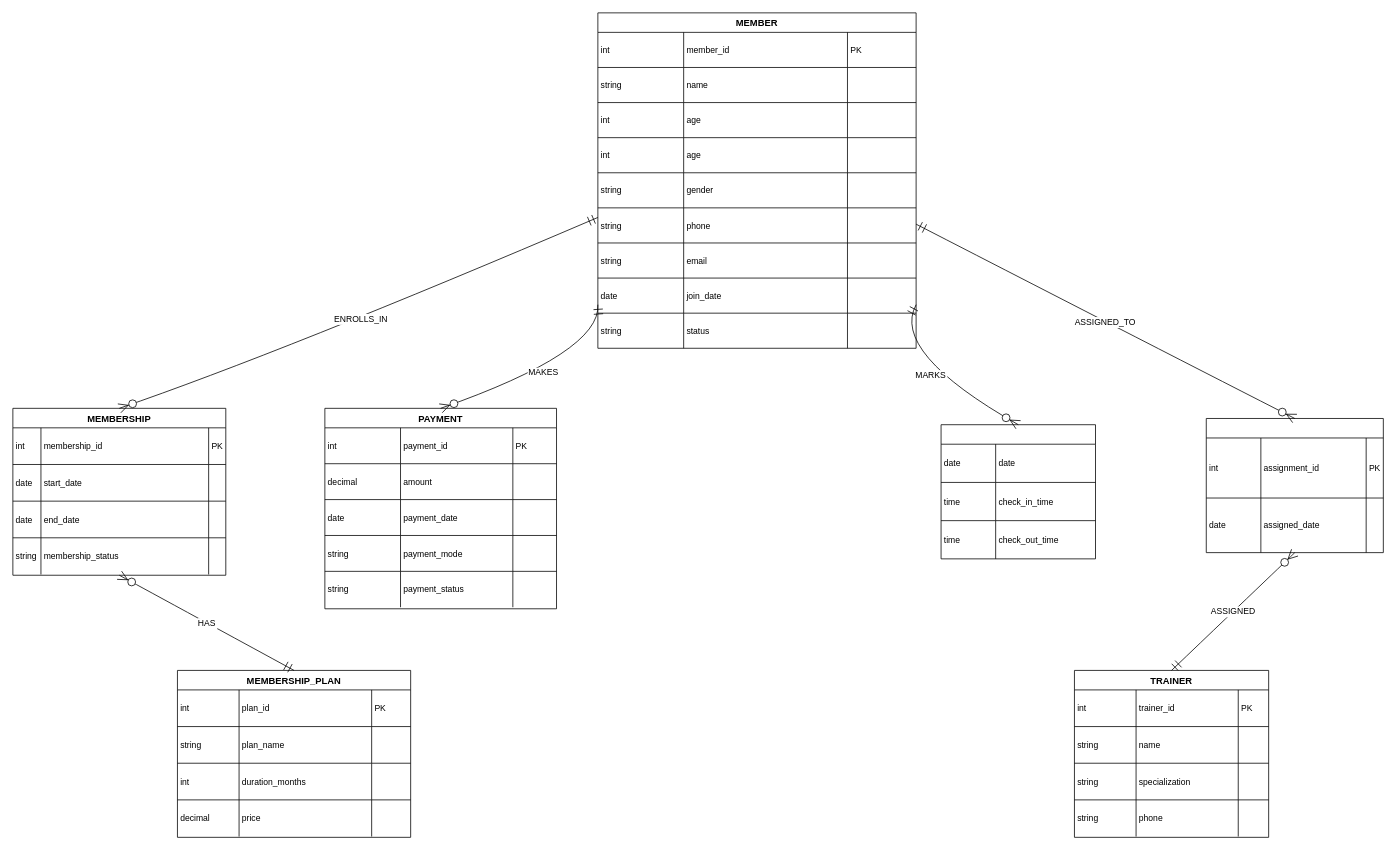
This 1396x850 diagram has some shape labels left out. The box of each missing label's shape, as (x1, y1, x2, y2) in pixels:
ATTENDANCE: (940, 424, 1096, 559)
TRAINER_ASSIGNMENT: (1205, 418, 1383, 553)
